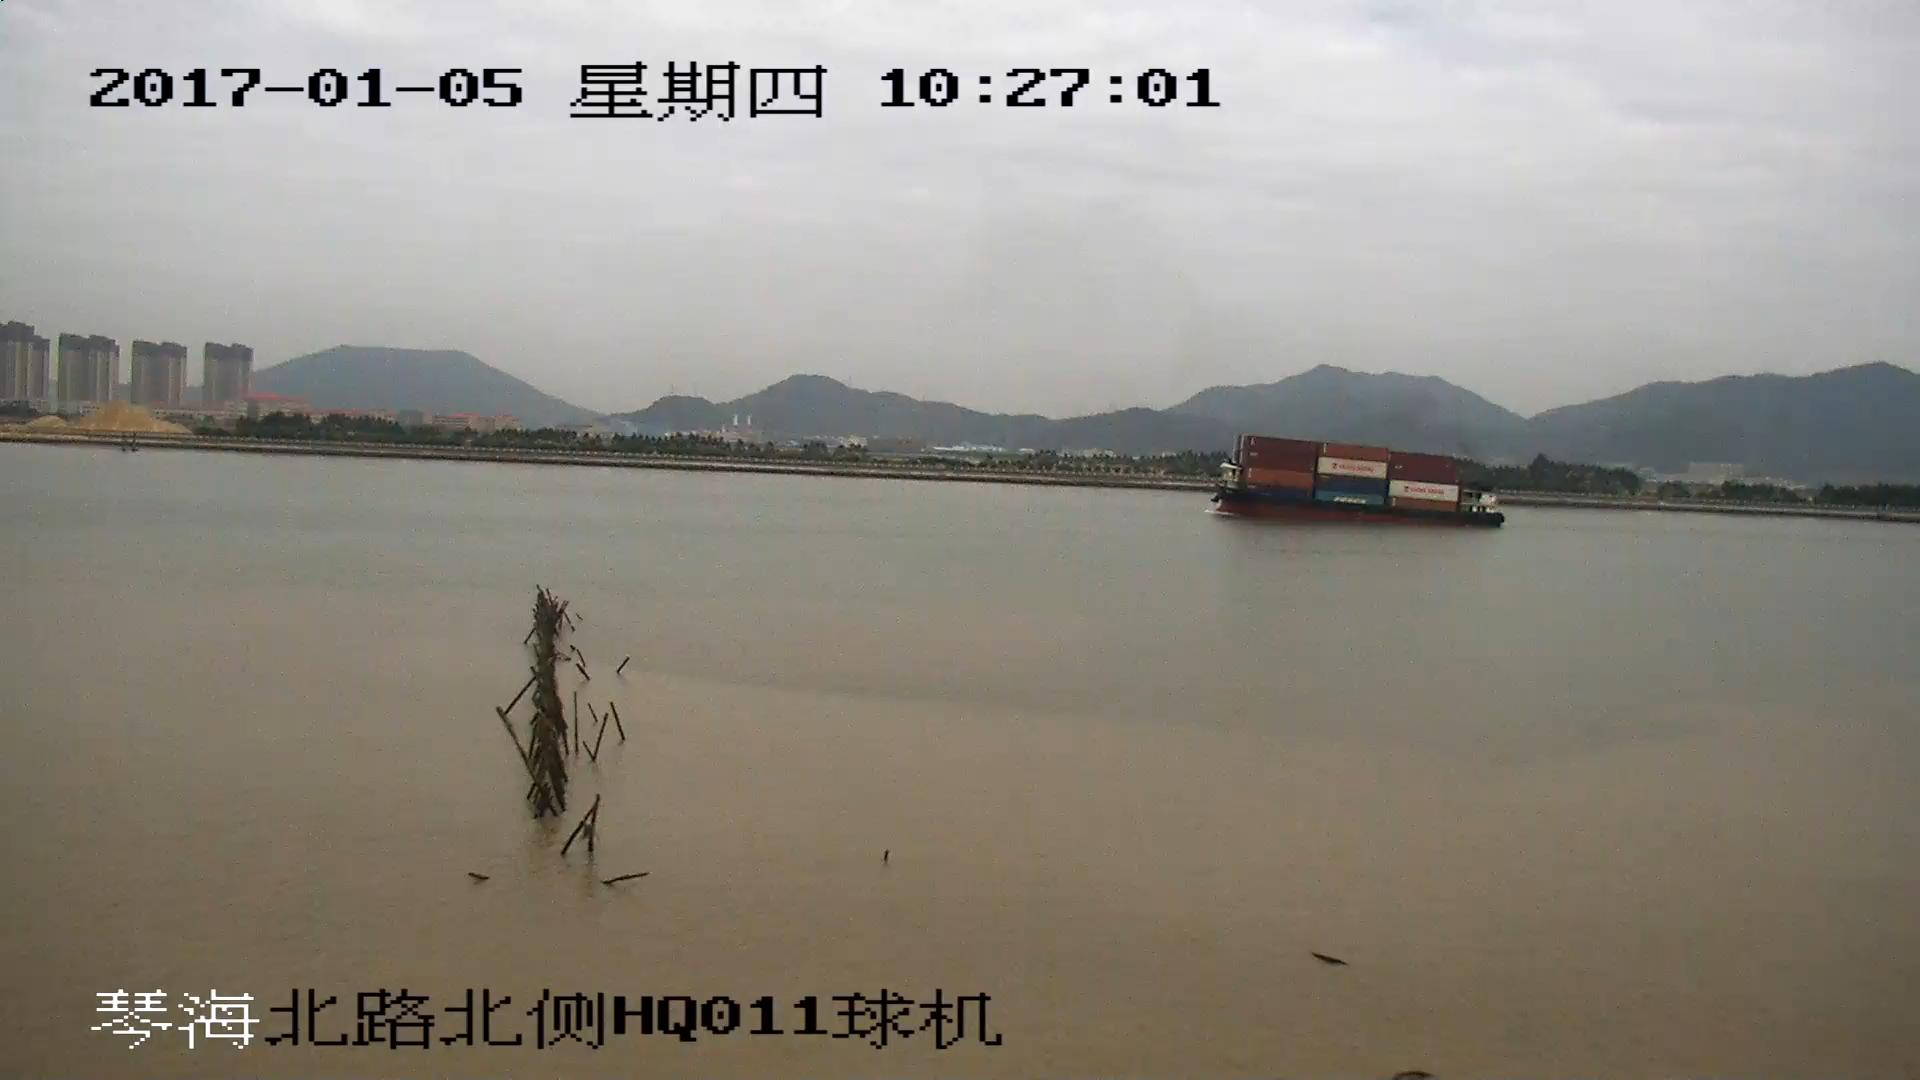container ship: (1206, 432, 1503, 531)
